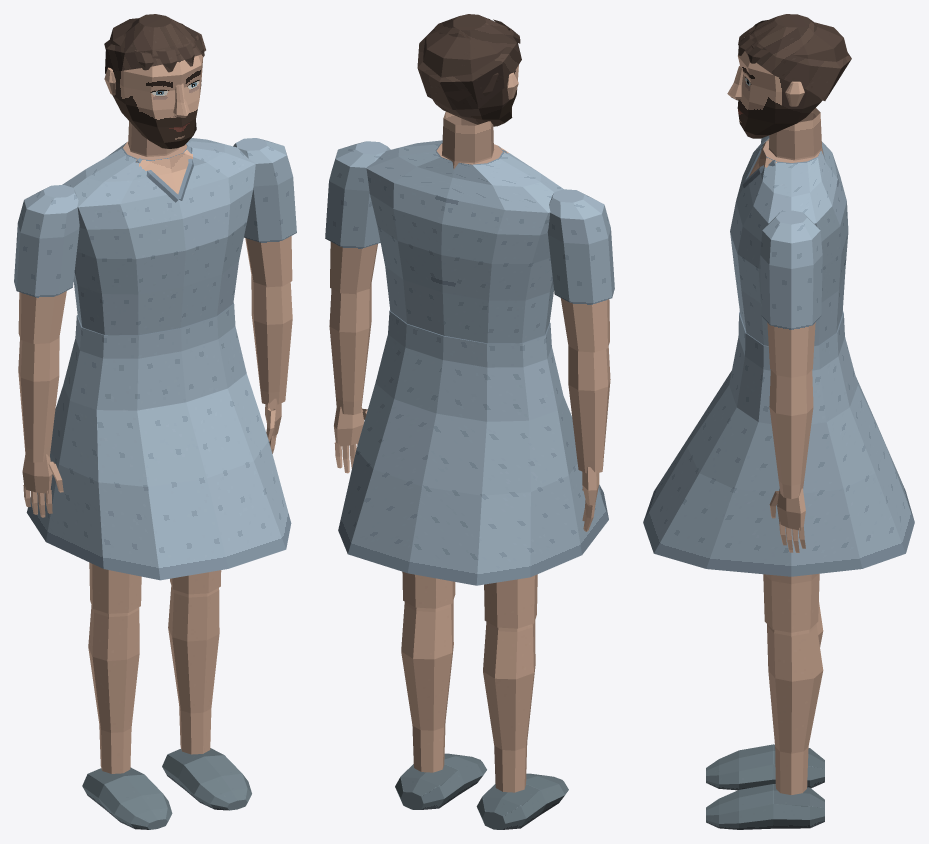
File: patient_male.glb
The picture shows the model from 3 angles, left to right: view 1: azimuth 30°, elevation 25°; view 2: azimuth 150°, elevation 25°; view 3: azimuth 270°, elevation 25°; orthographic projection. The views are drawn at different scales.
Parts seen in each view (by area): view 1: gown_skirt, gown_torso, upper_arm_r, calf_l, calf_r, upper_arm_l, head_skull, lower_arm_r, lower_arm_l, shoe_r, shoe_l, hair_cap (+4 smaller); view 2: gown_skirt, gown_torso, upper_arm_r, calf_r, calf_l, upper_arm_l, hair_cap, lower_arm_r, lower_arm_l, head_skull, shoe_r, shoe_l (+5 smaller); view 3: gown_skirt, gown_torso, upper_arm_l, calf_l, head_skull, lower_arm_l, hair_cap, shoe_l, shoe_r, thigh_l, neck_column, palm_l.
Part boxes in pixels (x1,y1,x2,y2): gown_skirt: [26, 302, 291, 580]; gown_torso: [62, 138, 255, 335]; upper_arm_r: [14, 185, 79, 343]; calf_l: [168, 586, 219, 754]; calf_r: [88, 605, 139, 773]; upper_arm_l: [233, 138, 296, 287]; head_skull: [109, 18, 203, 148]; lower_arm_r: [18, 337, 59, 462]; lower_arm_l: [251, 275, 292, 404]; shoe_r: [82, 767, 172, 829]; shoe_l: [162, 748, 251, 810]; hair_cap: [104, 14, 205, 73]; gown_skirt: [338, 310, 608, 585]; gown_torso: [366, 140, 563, 343]; upper_arm_r: [547, 189, 614, 352]; calf_r: [483, 620, 535, 792]; calf_l: [401, 600, 453, 772]; upper_arm_l: [325, 141, 390, 294]; hair_cap: [417, 14, 521, 109]; lower_arm_r: [568, 346, 610, 473]; lower_arm_l: [329, 283, 371, 414]; head_skull: [423, 30, 518, 126]; shoe_r: [476, 773, 568, 829]; shoe_l: [395, 753, 486, 809]; gown_skirt: [643, 310, 914, 576]; gown_torso: [730, 135, 848, 345]; upper_arm_l: [760, 210, 822, 377]; calf_l: [767, 623, 823, 794]; head_skull: [737, 22, 848, 138]; lower_arm_l: [769, 370, 813, 498]; hair_cap: [743, 14, 851, 100]; shoe_l: [706, 784, 824, 829]; shoe_r: [706, 744, 824, 790]; thigh_l: [763, 573, 819, 632]; neck_column: [769, 108, 823, 160]; palm_l: [777, 488, 805, 530].
Size of the model in its own units: 0.6788 by 1.8 by 0.5666.
Materials: 1 (1 with a texture image).
